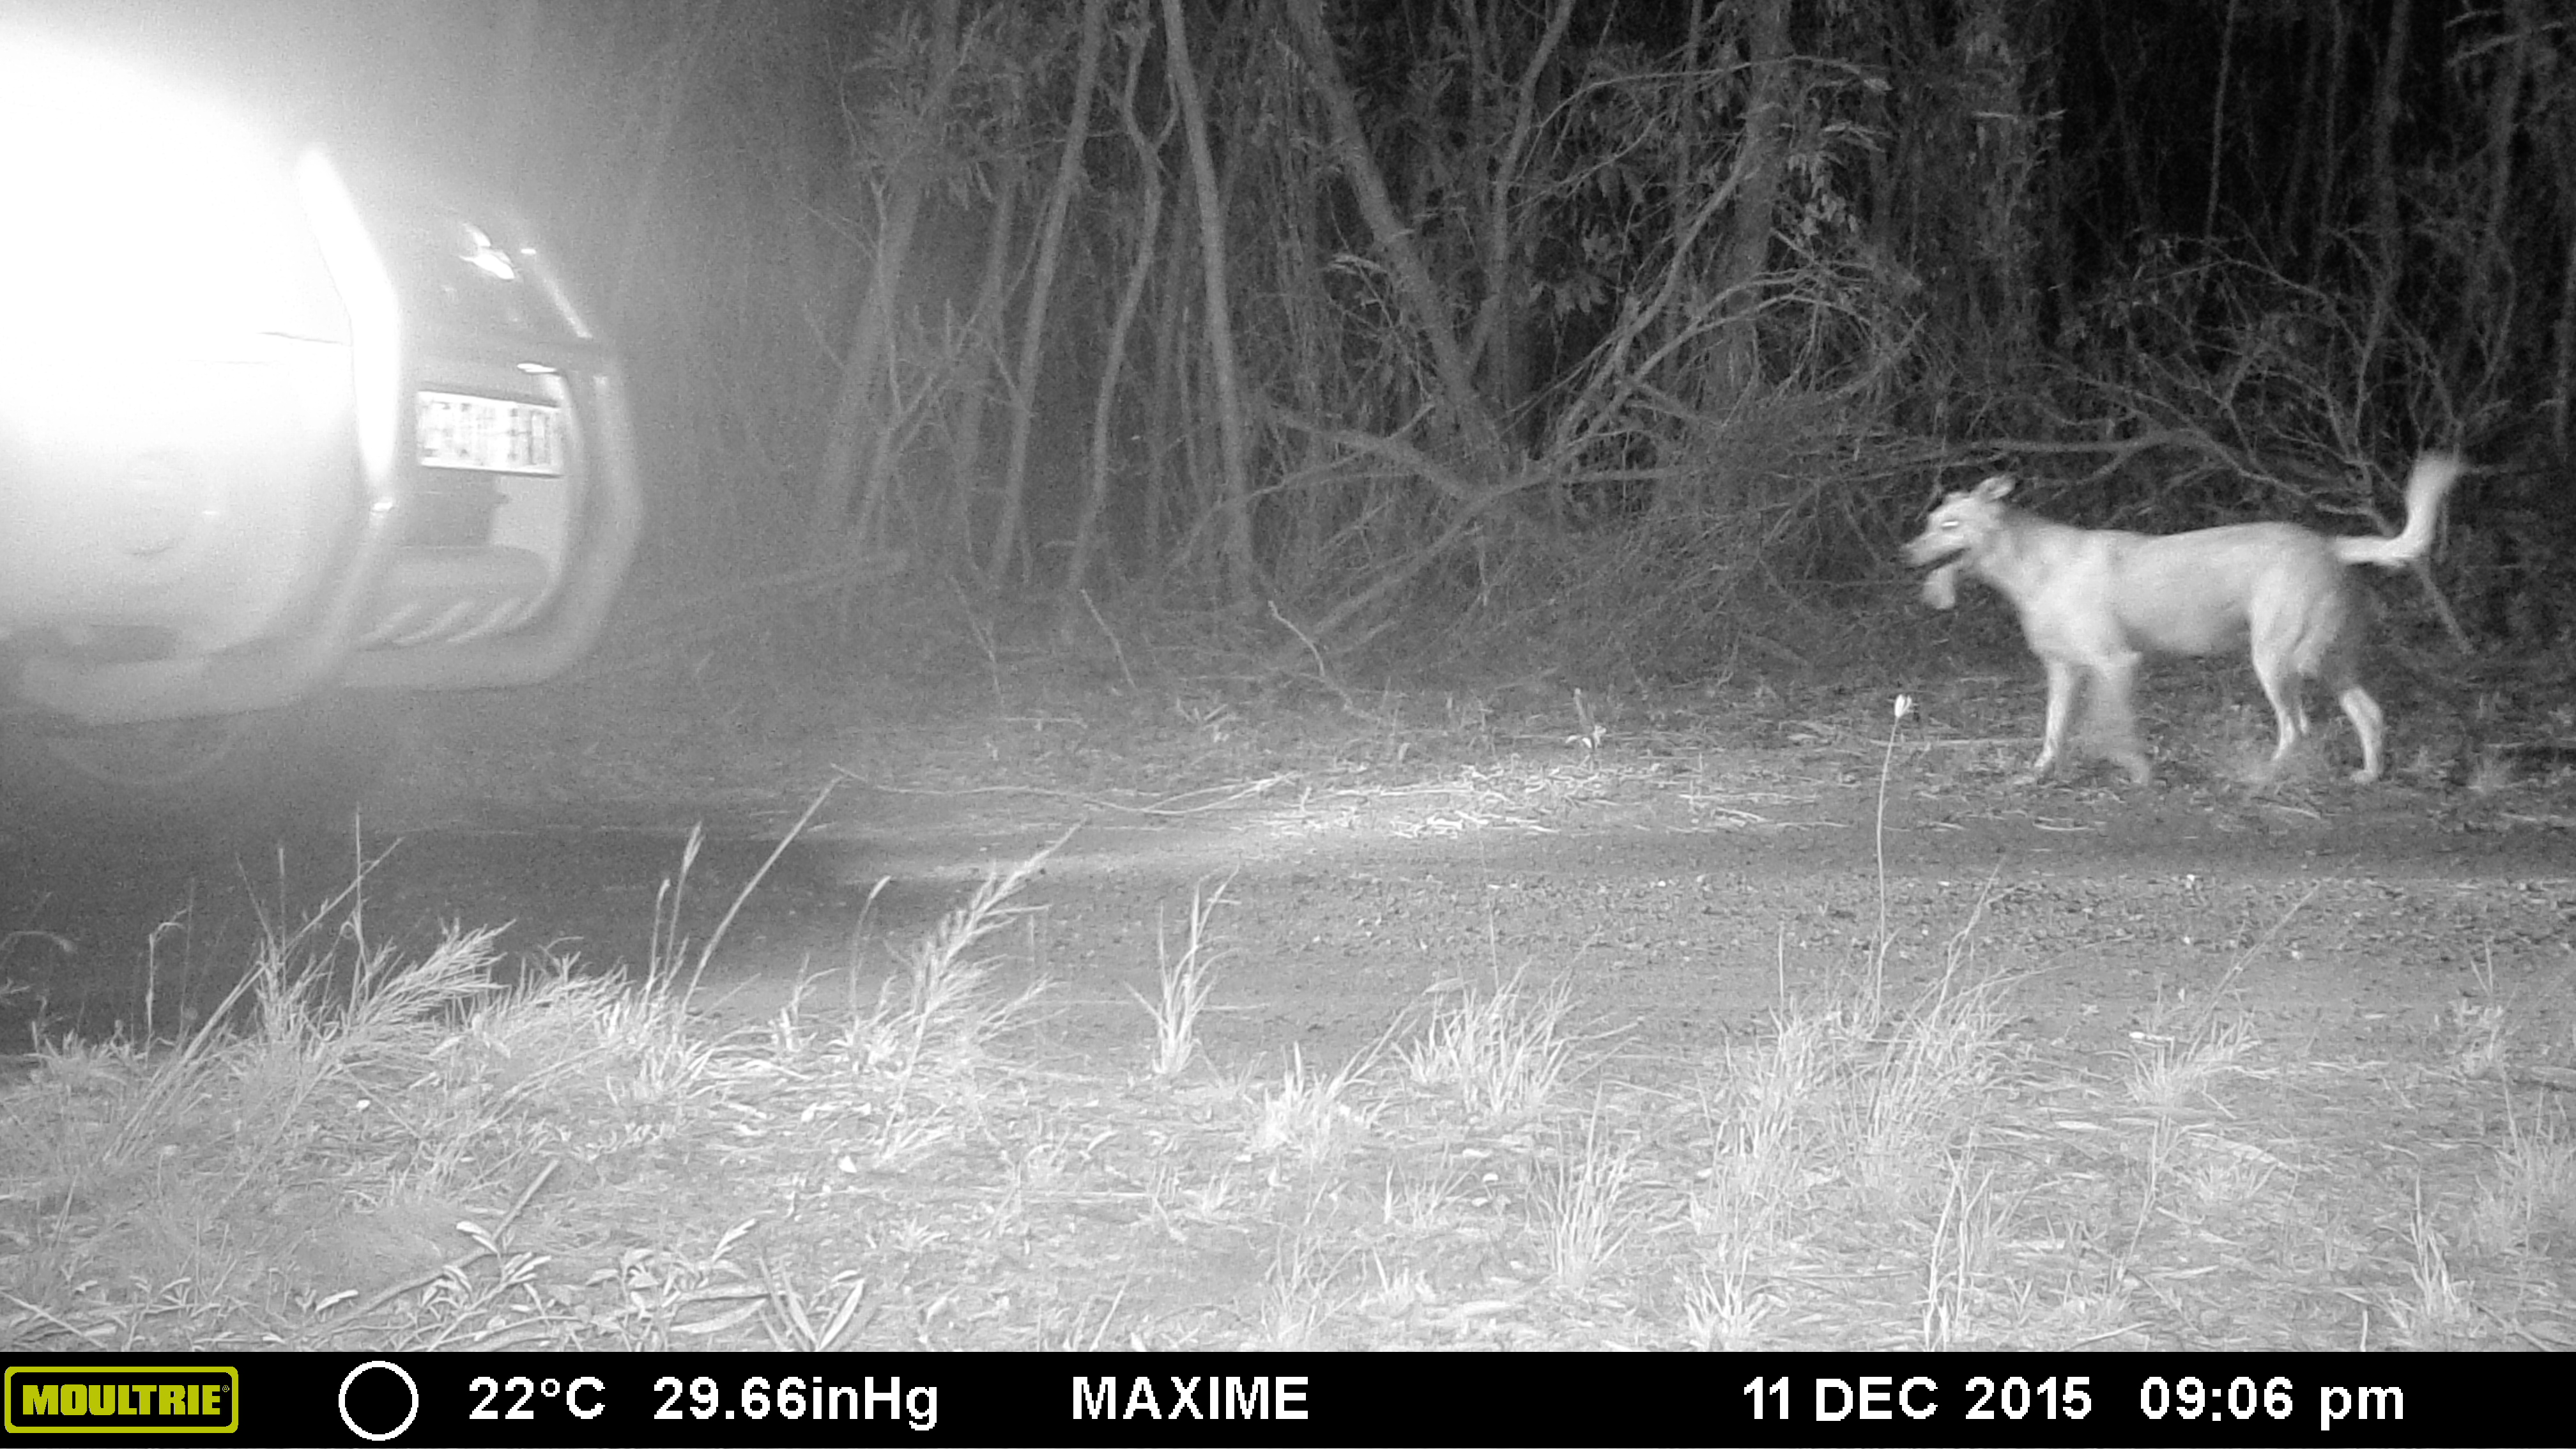Car: (2, 2, 674, 890)
Dog: (1907, 437, 2477, 805)
